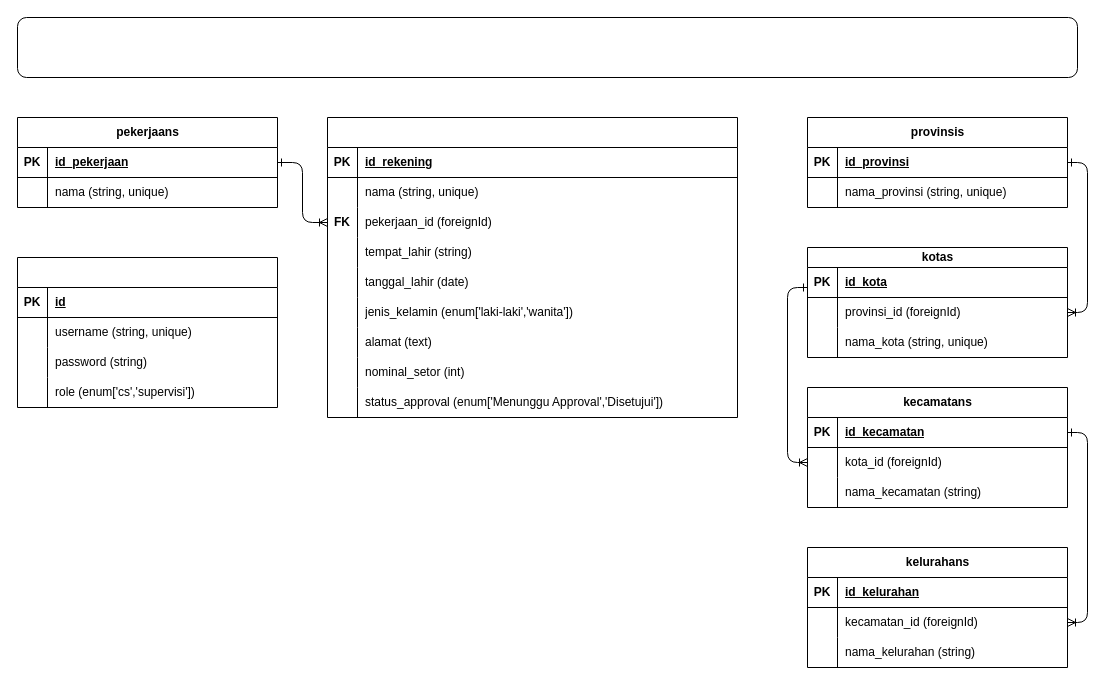
Some shapes in this 1114 by 685 pixel diagram are drawn without their labels. The box of each missing label's shape, as (x1, y1, x2, y2) in pixels:
rekenings: (326, 116, 738, 418)
Sistem Informasi Pembukaan Rekening: (16, 16, 1078, 78)
users: (16, 256, 278, 408)
